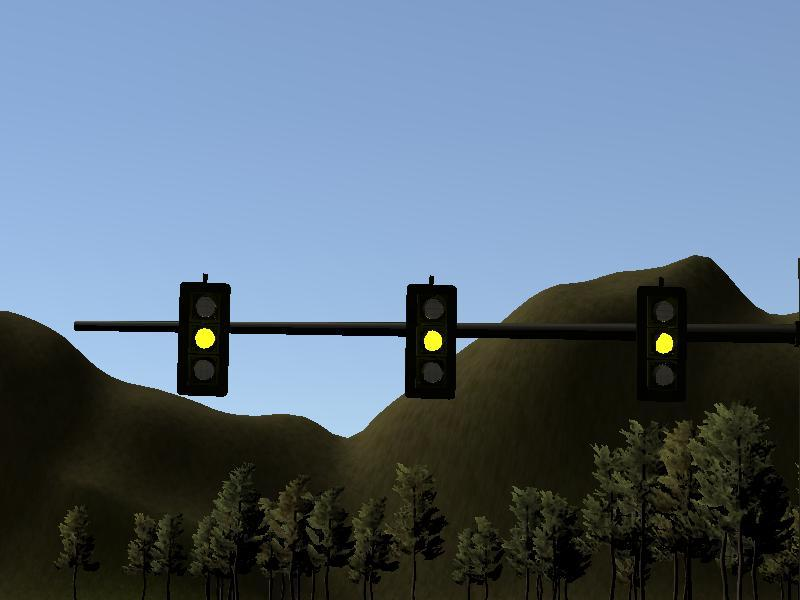Yellow: (178, 283, 231, 396), (405, 284, 456, 398), (638, 286, 689, 400)
